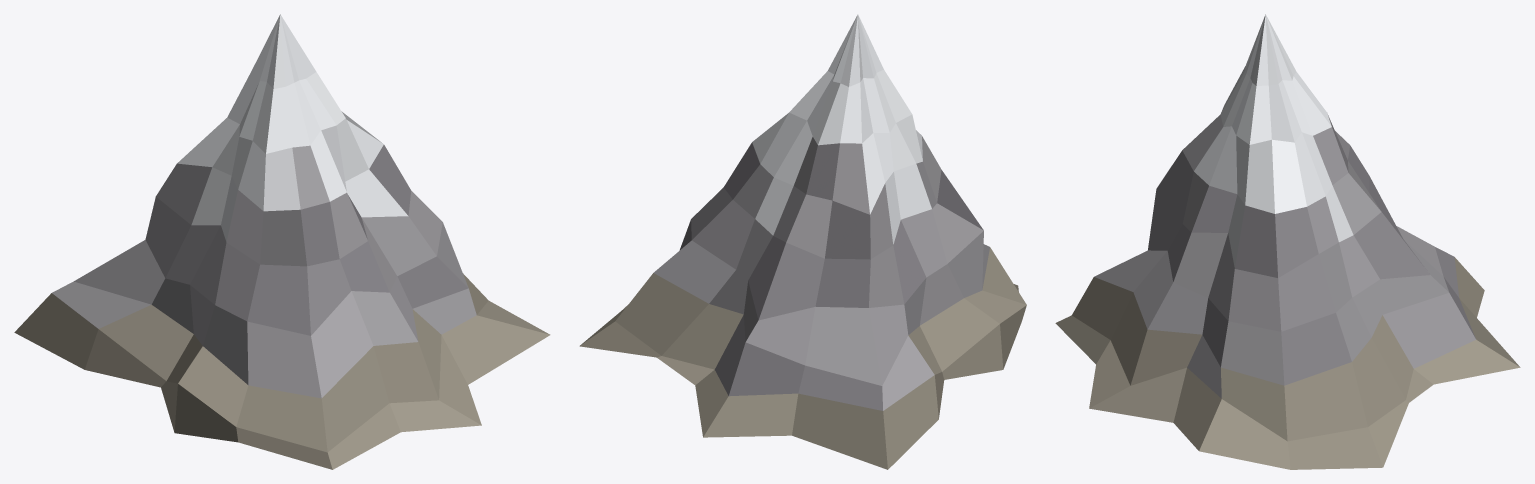
File: Mountain_Big.fbx
3 renders of one model, left to right at view 1: azimuth 30°, elevation 25°; view 2: azimuth 150°, elevation 25°; view 3: azimuth 270°, elevation 25°, orthographic. The views are drawn at different scales.
Visible parts, largest first — view 1: Mountain_Big; view 2: Mountain_Big; view 3: Mountain_Big.
Boxes of the visible parts, bbox=[...] form: Mountain_Big: bbox=[14, 14, 550, 469]; Mountain_Big: bbox=[579, 14, 1026, 469]; Mountain_Big: bbox=[1055, 14, 1520, 469].
Bounding box in the file's own units: 6.16 × 5.55 × 6.78.
